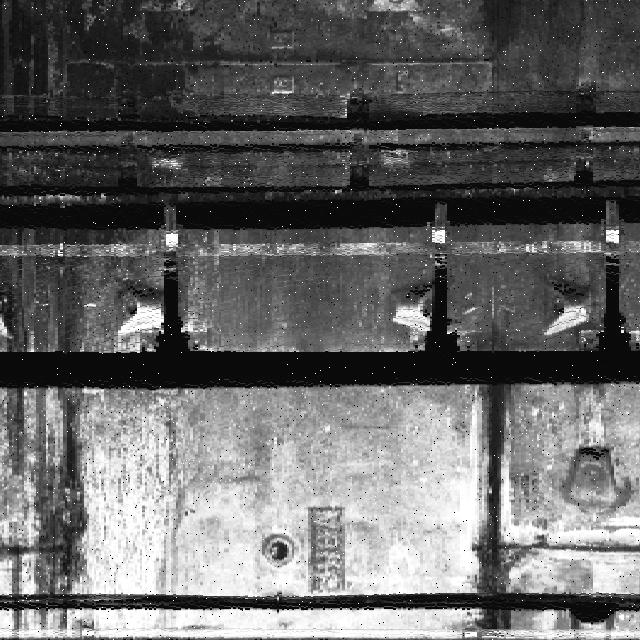leakage: (0, 231, 102, 633), (458, 391, 538, 640)
